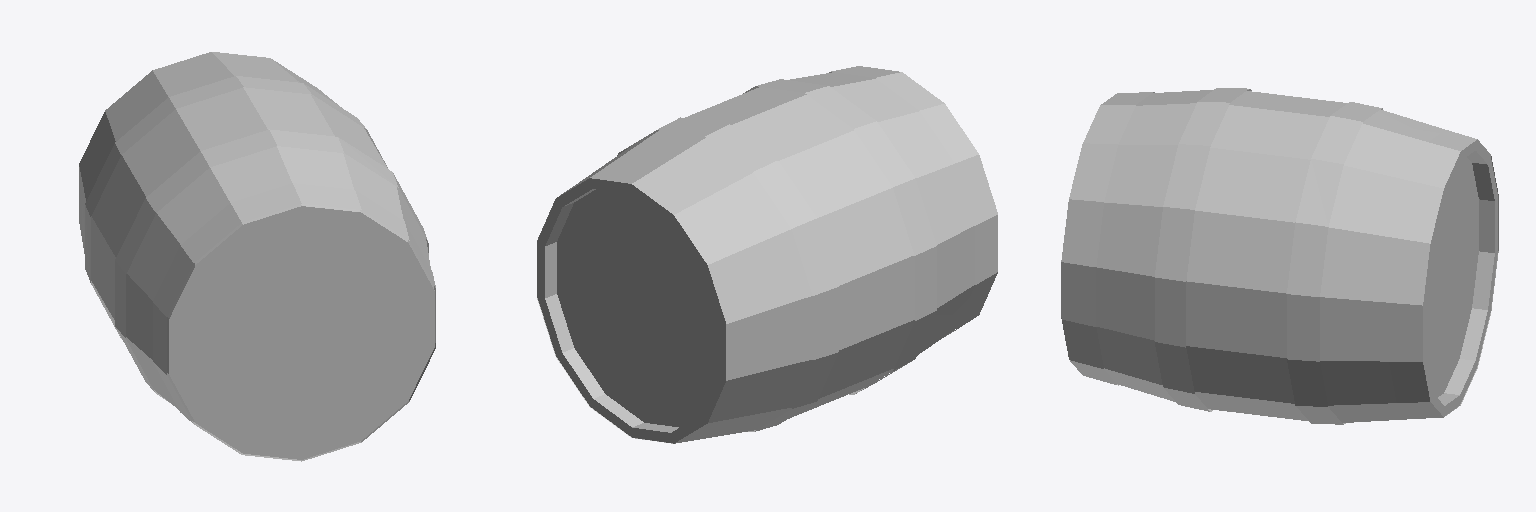
File: Barrel.obj
The picture shows the model from 3 angles: view 1: azimuth 30°, elevation 25°; view 2: azimuth 150°, elevation 25°; view 3: azimuth 270°, elevation 25°; orthographic projection.
Visible parts, largest first — view 1: BARR_001_Cylinder_004; view 2: BARR_001_Cylinder_004; view 3: BARR_001_Cylinder_004.
Boxes of the visible parts, x1,y1,x2,y2 form: BARR_001_Cylinder_004: [79, 52, 435, 461]; BARR_001_Cylinder_004: [537, 66, 997, 443]; BARR_001_Cylinder_004: [1061, 88, 1498, 424].
Size of the model in its own units: 2.15 by 1.9 by 2.55.